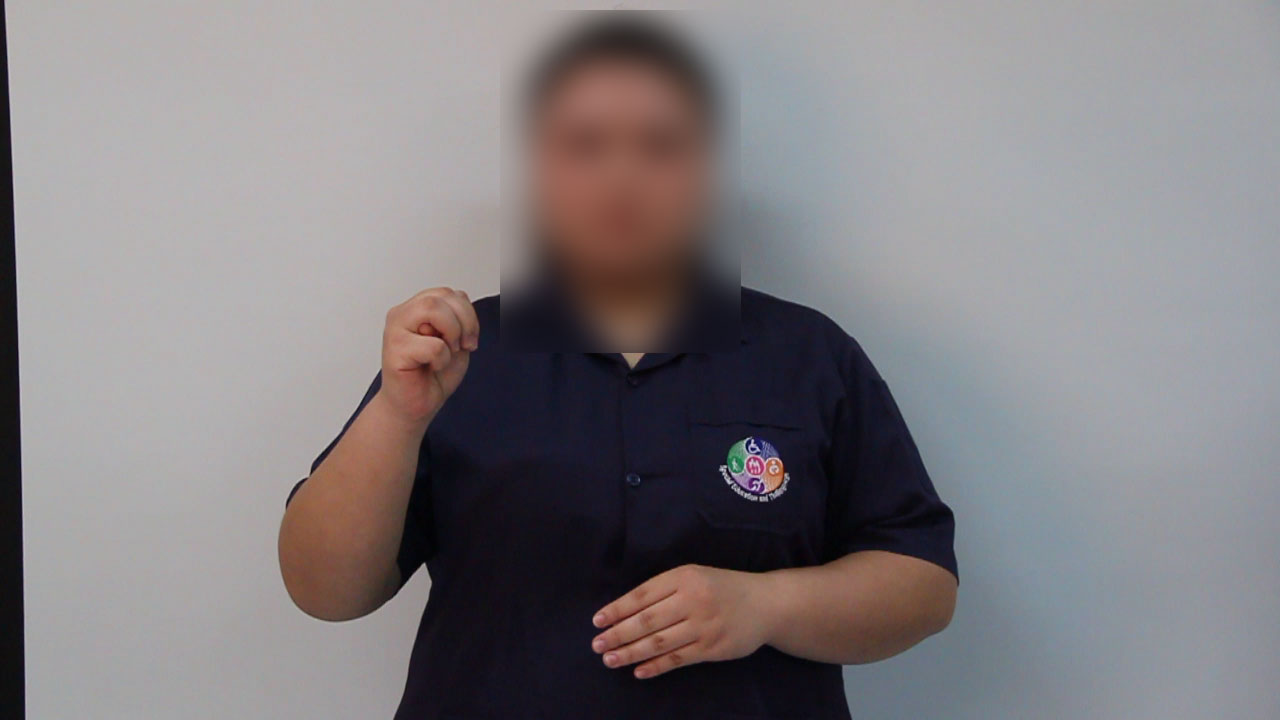mor: (378, 260, 487, 409)
